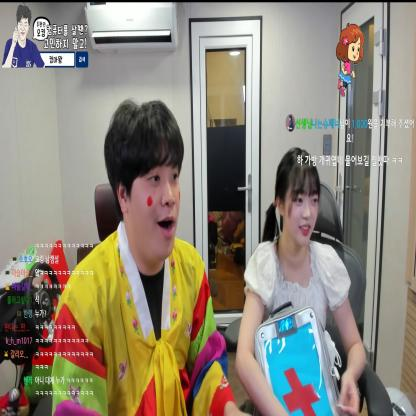donation: (276, 21, 416, 170)
streamer: (53, 99, 233, 416), (238, 143, 366, 416)
